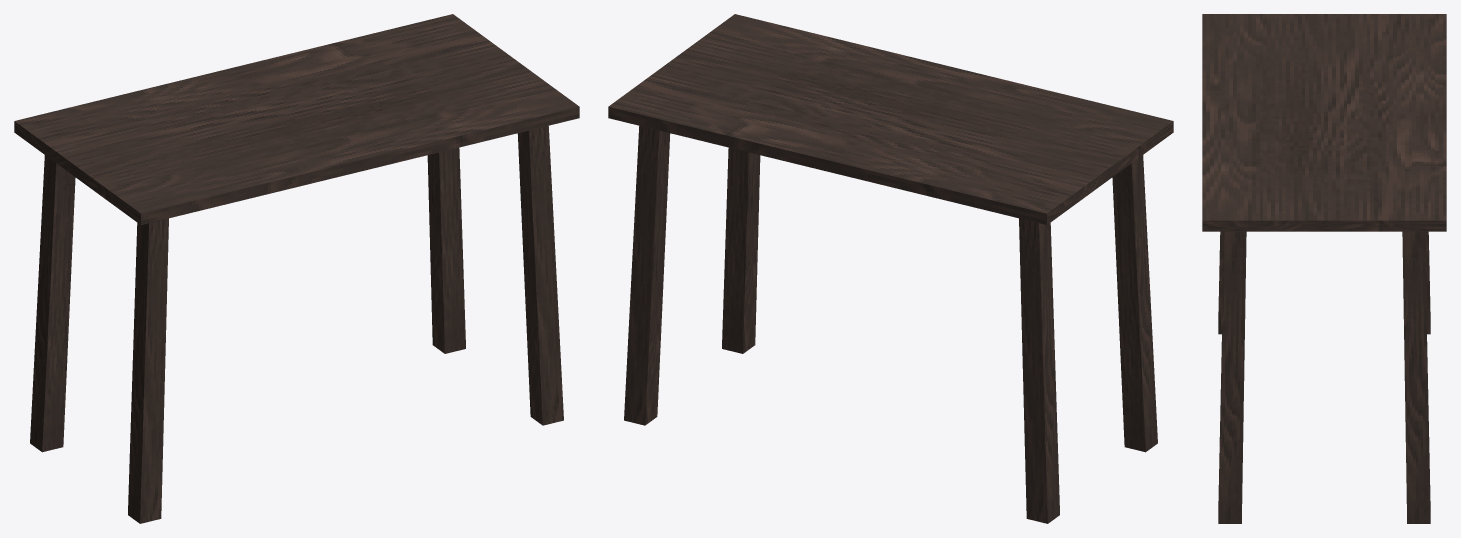
Rendered from Table.glb.
3 views of the same model, side by side, from view 1: azimuth 30°, elevation 25°; view 2: azimuth 150°, elevation 25°; view 3: azimuth 270°, elevation 25° (orthographic). The views are drawn at different scales.
Visible parts, largest first — view 1: Table; view 2: Table; view 3: Table.
Boxes of the visible parts, box(x1,y1,x2,y2) form: Table: box(14, 14, 579, 523); Table: box(608, 14, 1173, 523); Table: box(1202, 14, 1446, 523).
Size of the model in its own units: 1.45 by 1 by 0.7253.
Materials: 1 (1 with a texture image).
